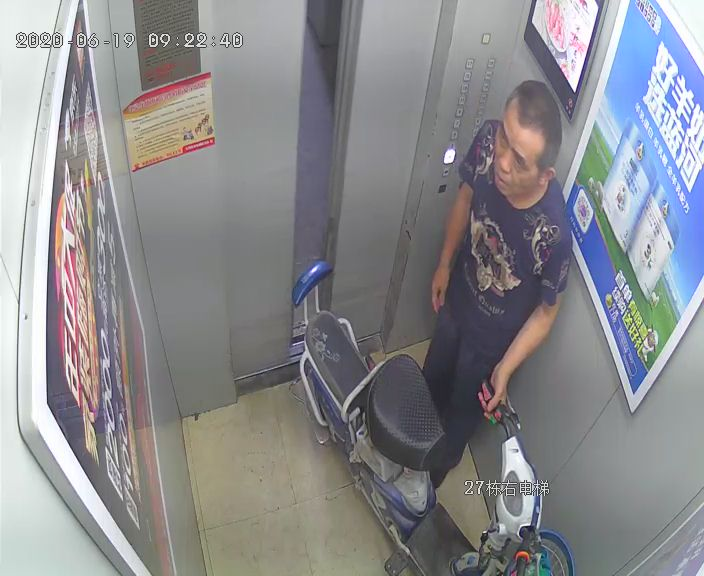Electric-bicycle: (281, 266, 573, 576)
